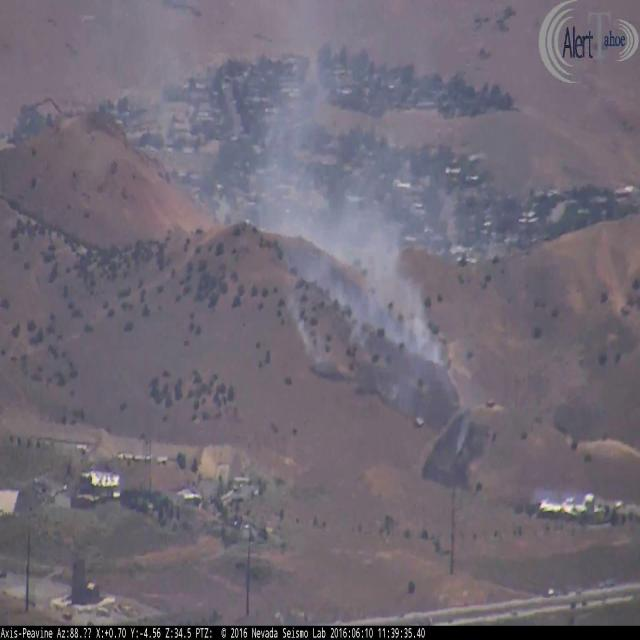smoke: (214, 22, 465, 446)
